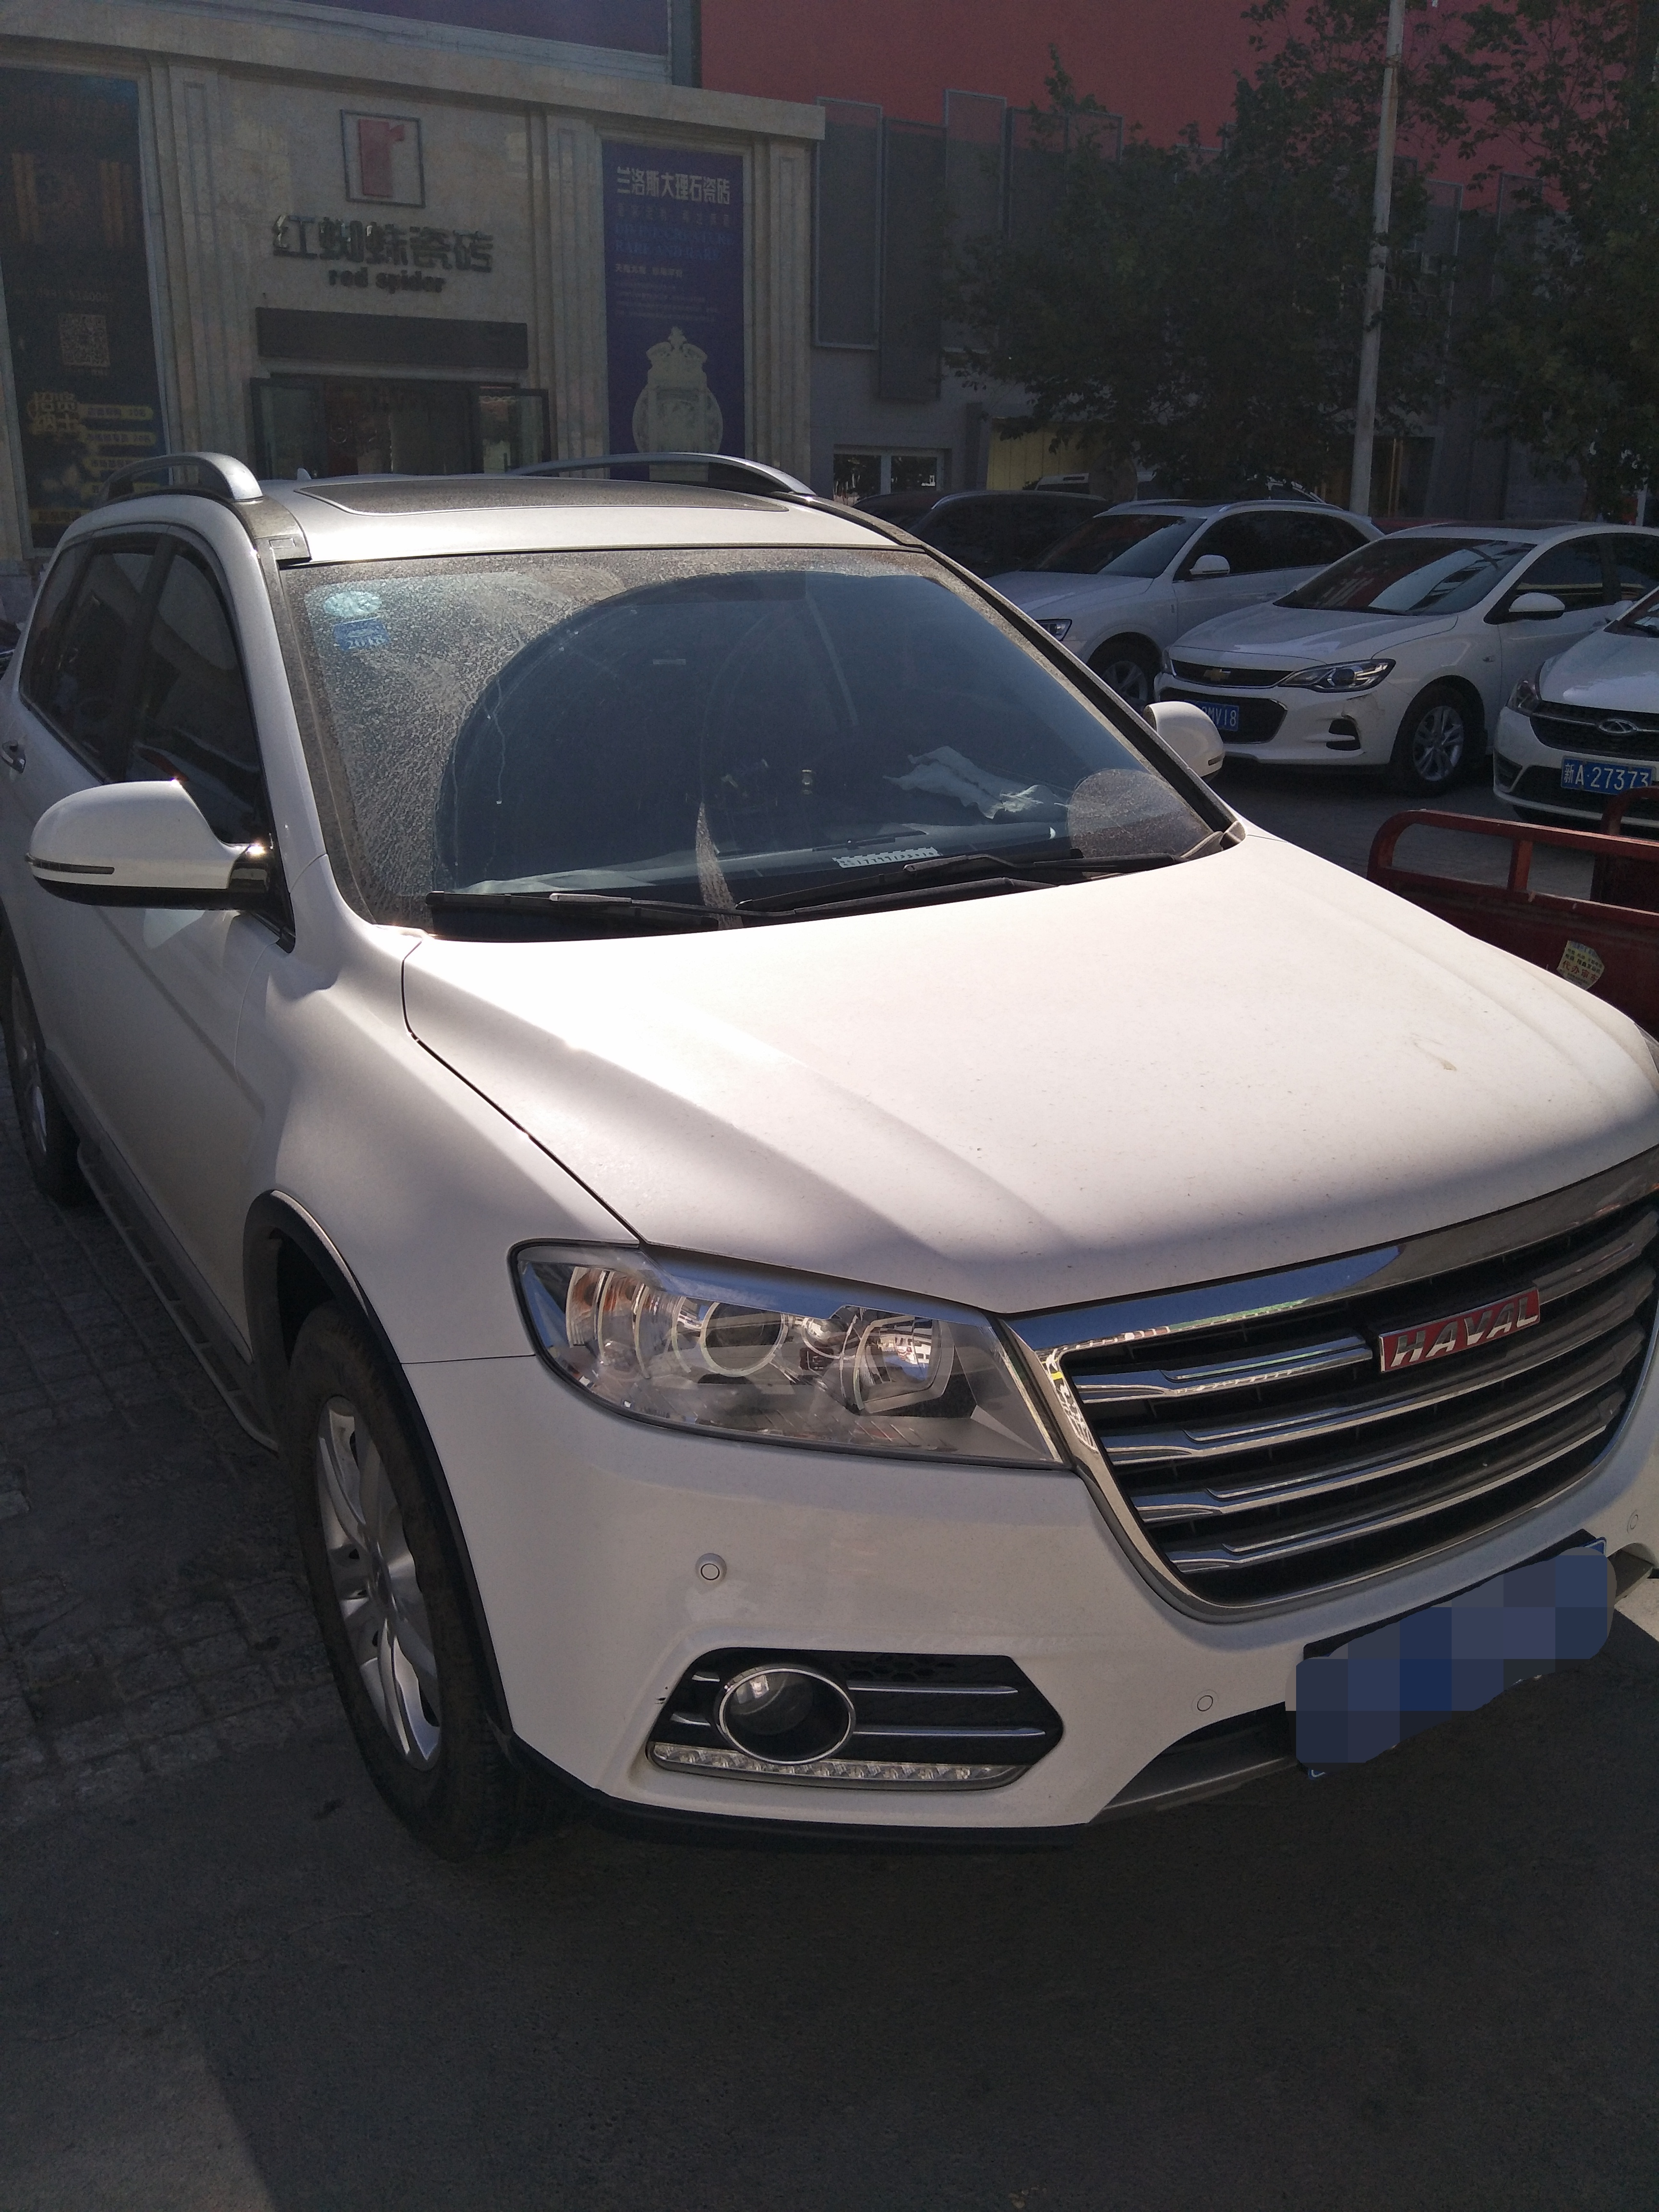SUV: (71, 368, 1659, 1905)
